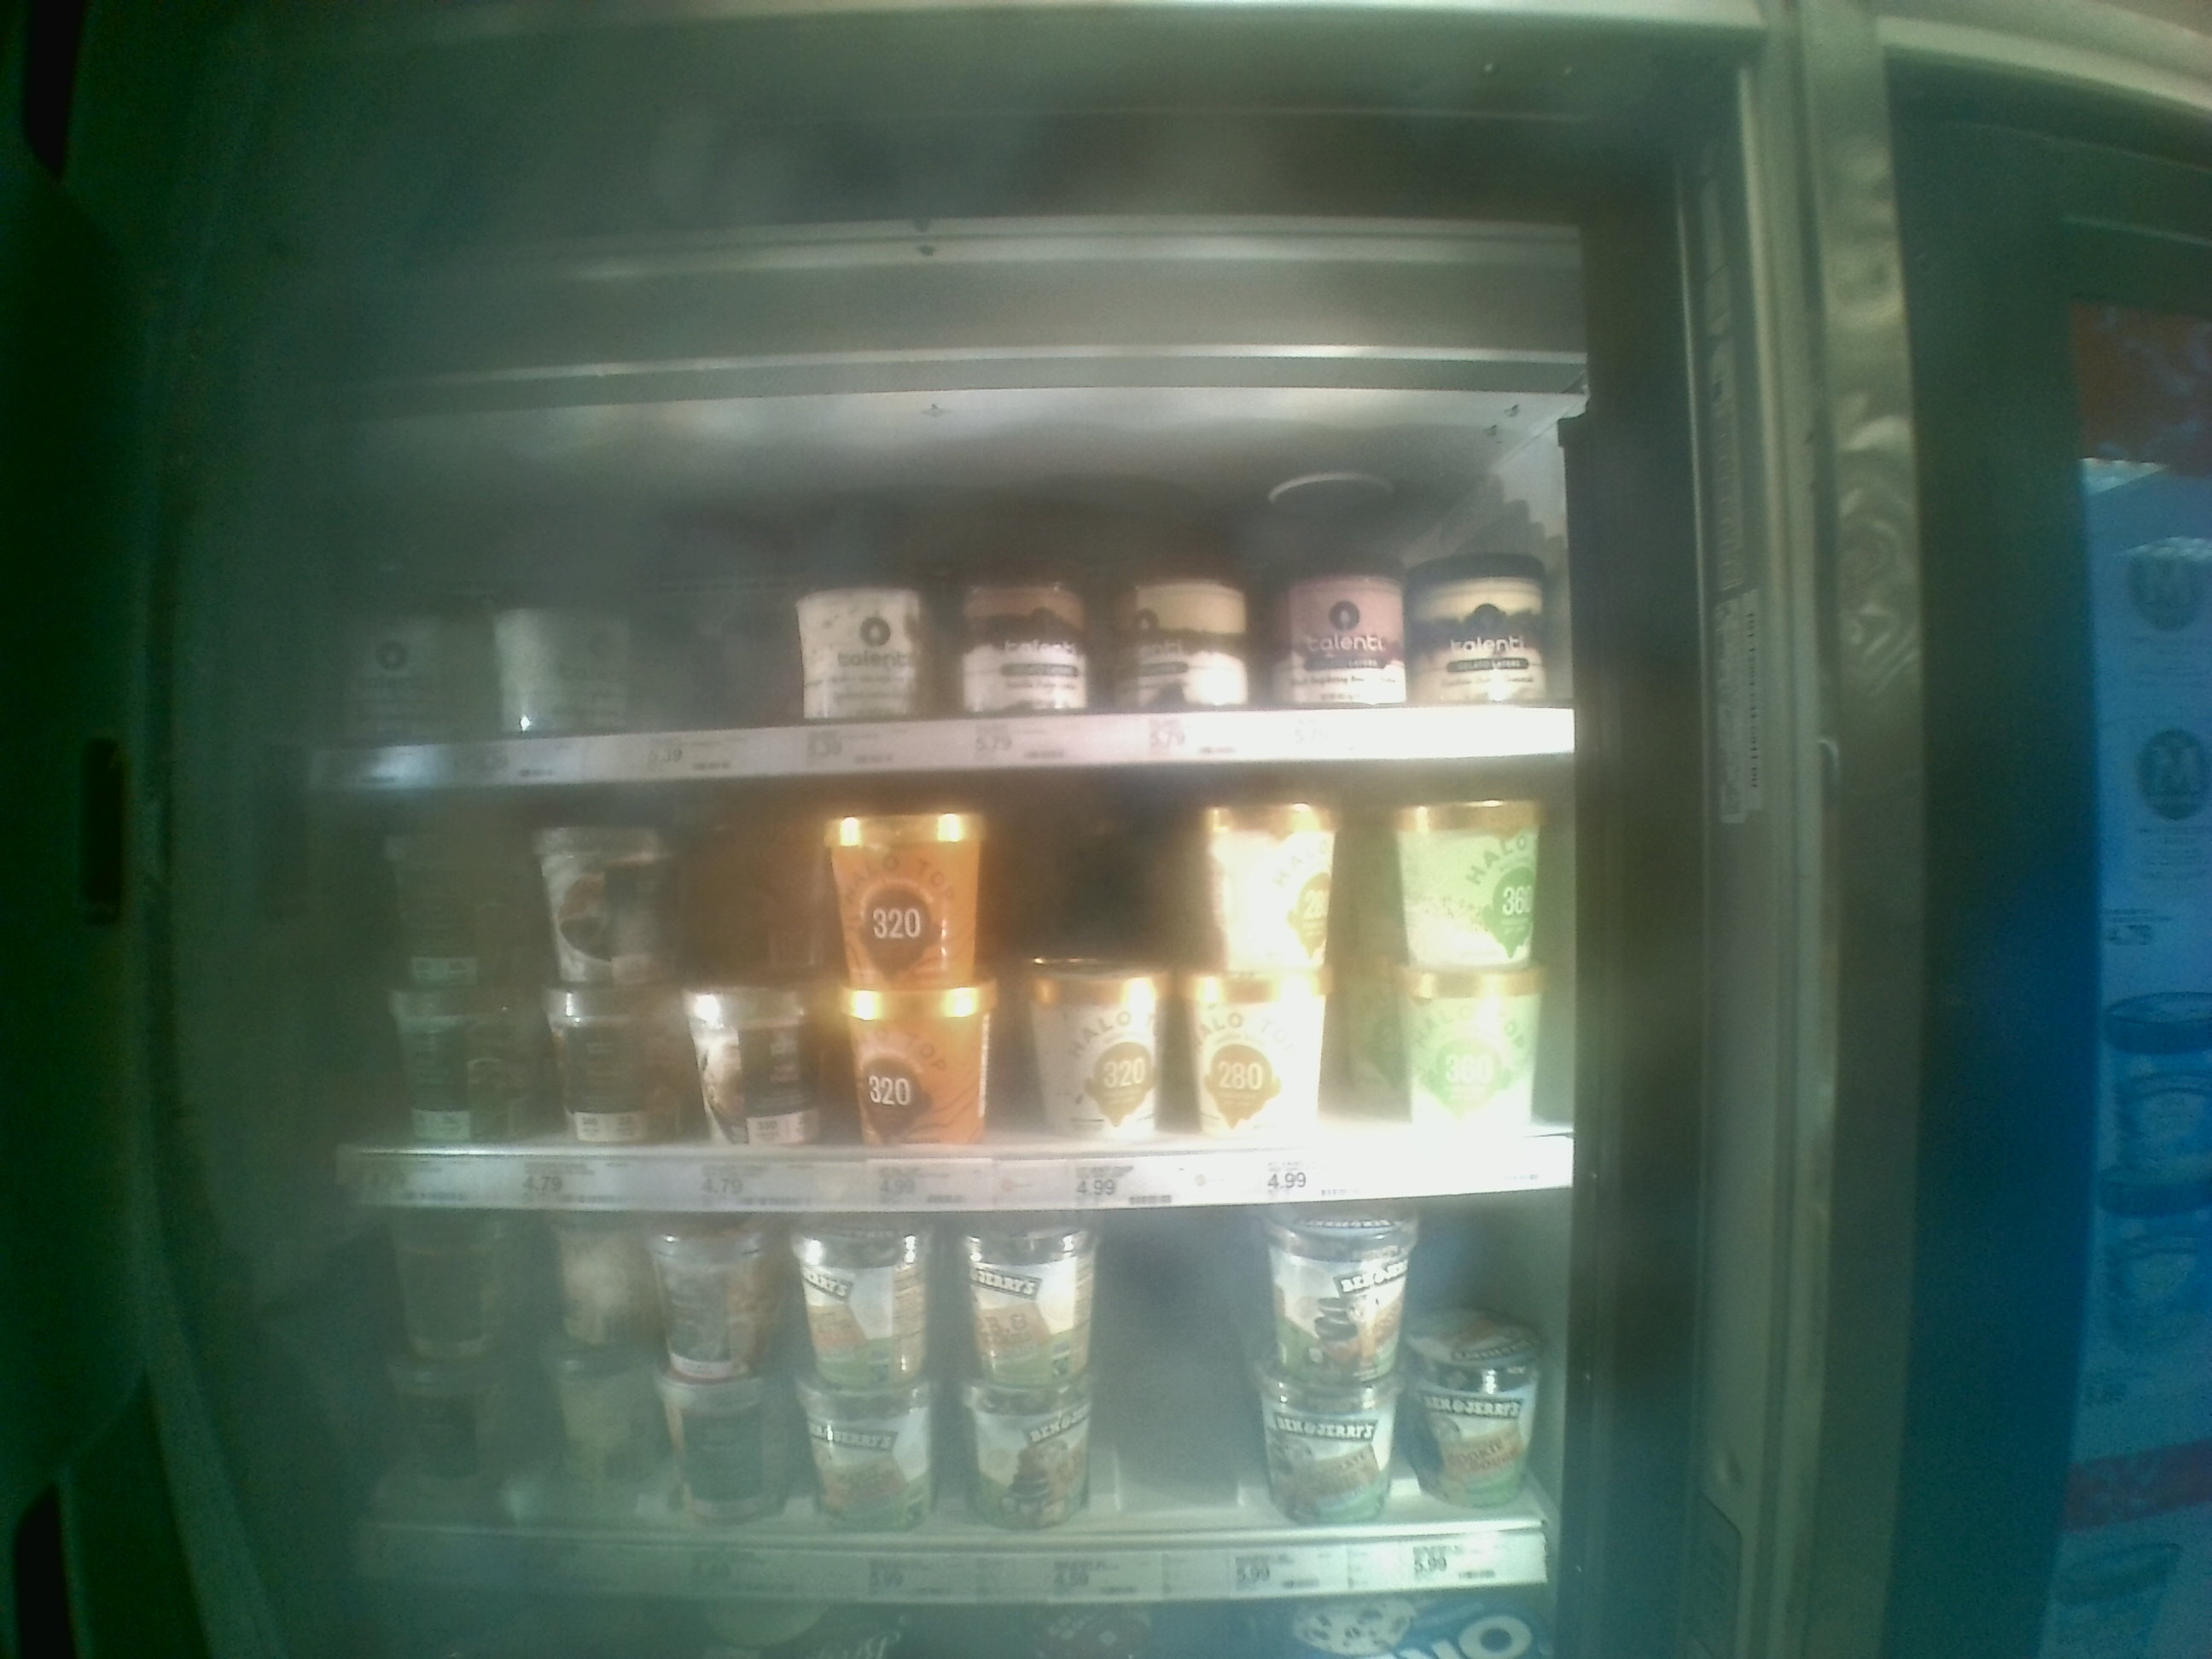ice-cream-shelf: (320, 791, 1562, 1209), (340, 1213, 1545, 1605), (303, 453, 1550, 786)
